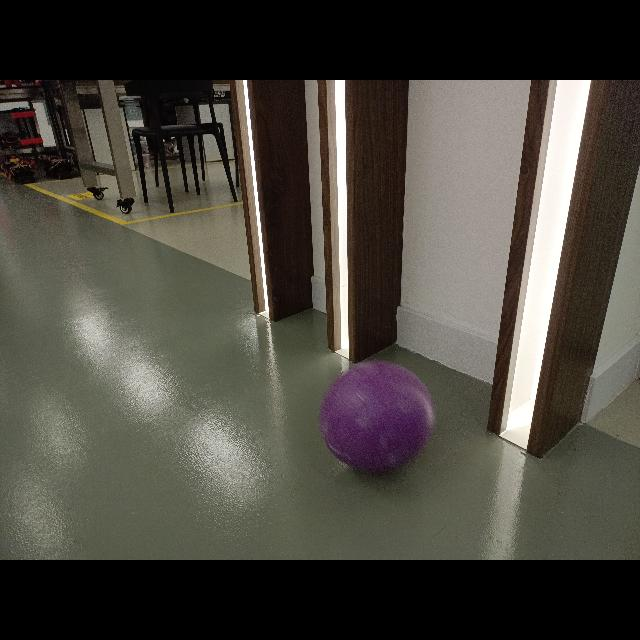P: (324, 358, 436, 474)
